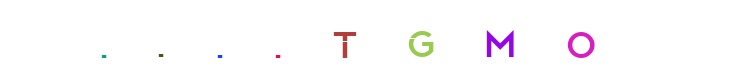0: (289, 0, 369, 80)
4: (381, 0, 461, 80)
7: (122, 0, 202, 80)
9: (327, 0, 407, 80)
G: (460, 0, 540, 80)
M: (508, 0, 588, 80)
O: (541, 0, 621, 80)
T: (389, 0, 469, 80)
